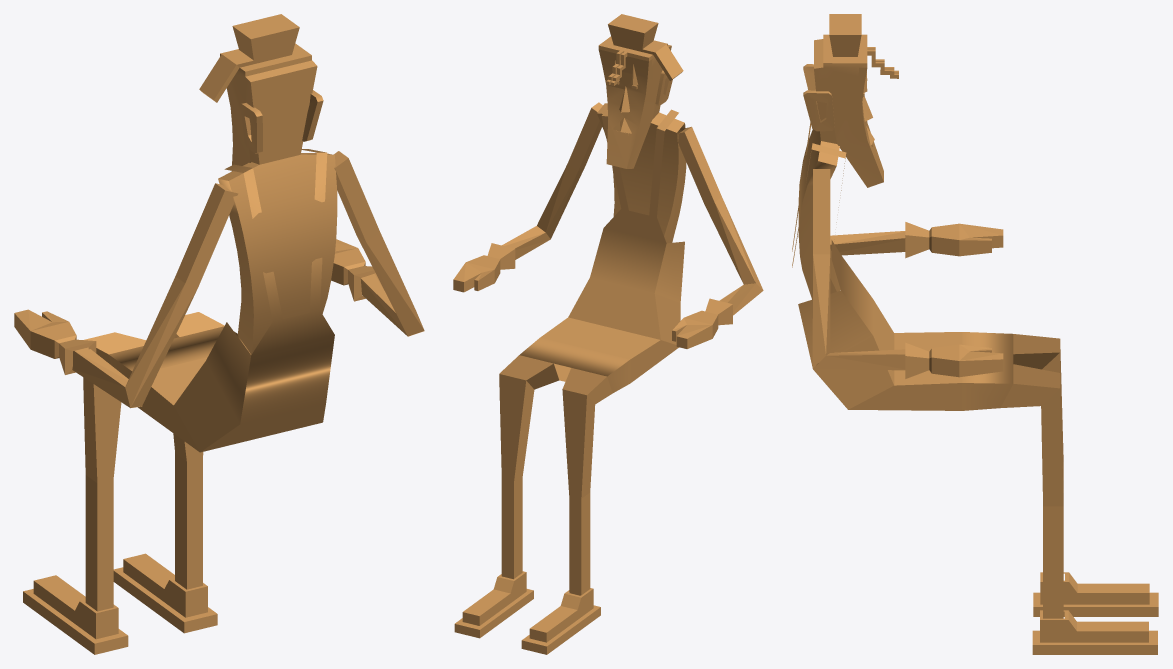
Rendered from char_01_12.glb.
3 views of the same model, side by side, from view 1: azimuth 30°, elevation 25°; view 2: azimuth 150°, elevation 25°; view 3: azimuth 270°, elevation 25° (orthographic). The views are drawn at different scales.
Visible parts, largest first — view 1: body, head, footL, footR, handL, handR; view 2: body, head, footL, footR, handR, handL; view 3: body, head, footR, footL, handR, handL.
Boxes of the visible parts, <box> form: body: <box>72,149,424,611</box>; head: <box>199,14,323,171</box>; footL: <box>23,575,128,654</box>; footR: <box>113,553,217,633</box>; handL: <box>14,309,96,374</box>; handR: <box>331,239,375,301</box>; body: <box>499,102,763,595</box>; head: <box>598,14,683,168</box>; footL: <box>521,588,600,654</box>; footR: <box>454,571,533,638</box>; handR: <box>453,243,515,292</box>; handL: <box>672,298,732,348</box>; body: <box>792,122,1063,618</box>; head: <box>803,14,898,187</box>; footR: <box>1032,610,1157,654</box>; footL: <box>1033,572,1158,616</box>; handR: <box>905,342,1003,378</box>; handL: <box>905,222,1003,258</box>.
Bounding box in the file's own units: 0.6582 × 1.33 × 0.7272.
